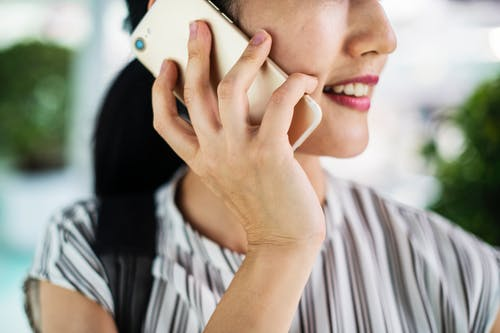phone: (133, 1, 323, 157)
talk: (130, 1, 398, 253)
